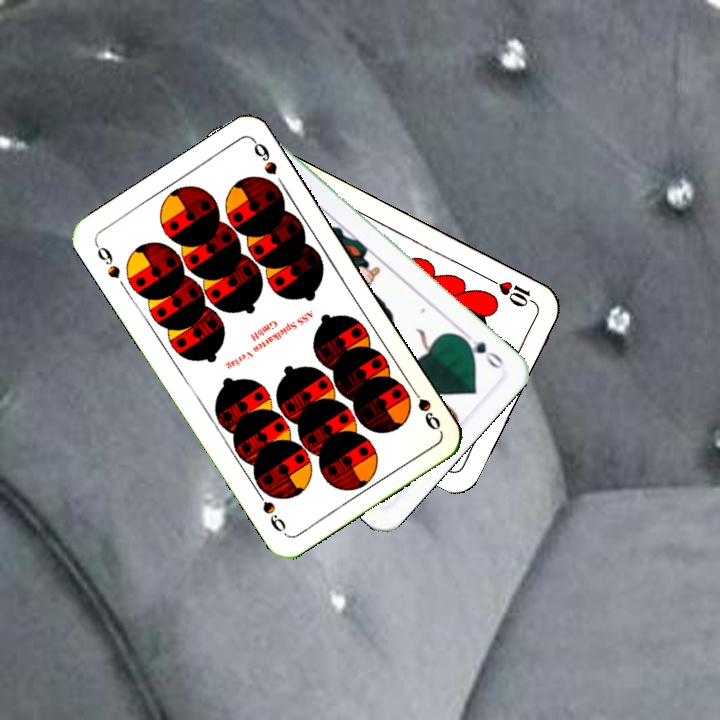GO: (455, 326, 507, 372)
H10: (484, 273, 539, 310)
S9: (405, 381, 443, 433), (91, 239, 123, 282)
